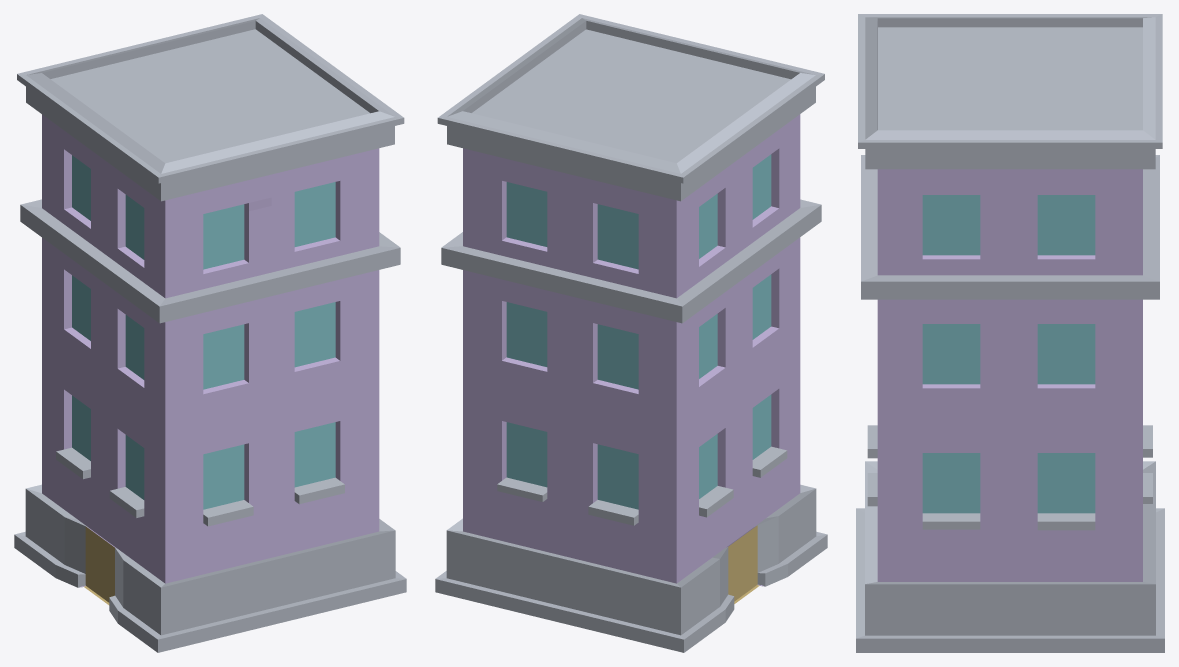
The model's file is Apartment1_1.fbx.
The picture shows the model from 3 angles, left to right: view 1: azimuth 30°, elevation 25°; view 2: azimuth 150°, elevation 25°; view 3: azimuth 270°, elevation 25°; orthographic projection. The views are drawn at different scales.
Parts seen in each view (by area): view 1: Cube; view 2: Cube; view 3: Cube.
Part boxes in pixels (x1,y1,x2,y2): Cube: [14, 14, 406, 652]; Cube: [435, 14, 827, 652]; Cube: [856, 14, 1164, 652].
Size of the model in its own units: 150 by 275 by 150.
